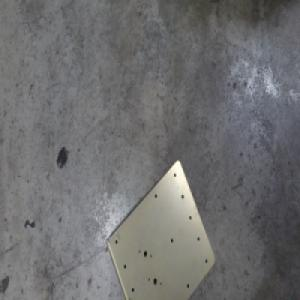MetalSheet: (104, 156, 216, 300)
